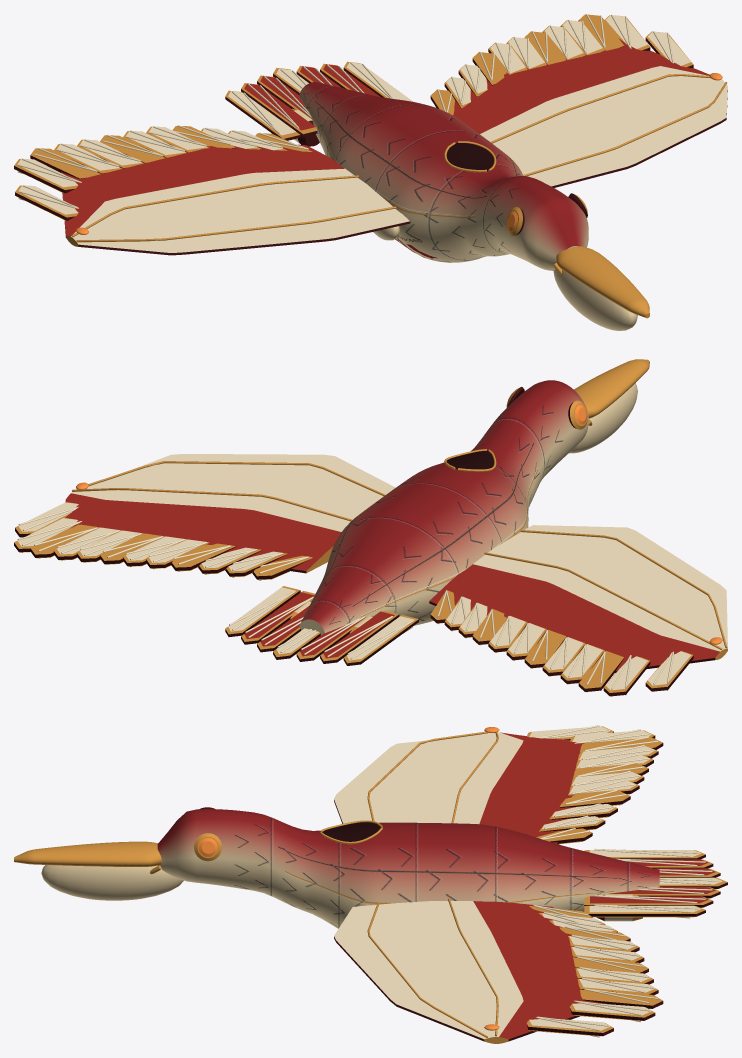
3 views of the same model, one above another, from view 1: azimuth 30°, elevation 25°; view 2: azimuth 150°, elevation 25°; view 3: azimuth 270°, elevation 25° (orthographic). The views are drawn at different scales.
Parts seen in each view (by area): view 1: pelican_hull; view 2: pelican_hull; view 3: pelican_hull.
Boxes of the visible parts, x1,y1,x2,y2 form: pelican_hull: (14, 14, 727, 330); pelican_hull: (14, 359, 727, 696); pelican_hull: (14, 725, 727, 1043).
Size of the model in its own units: 256 by 48.55 by 252.
1 material, 1 textured.
